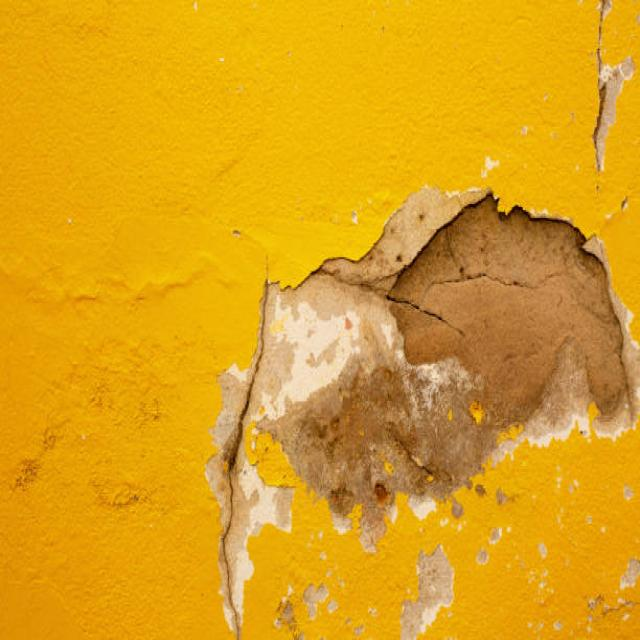Crack: (214, 276, 271, 639), (411, 266, 585, 300), (589, 0, 606, 177)
